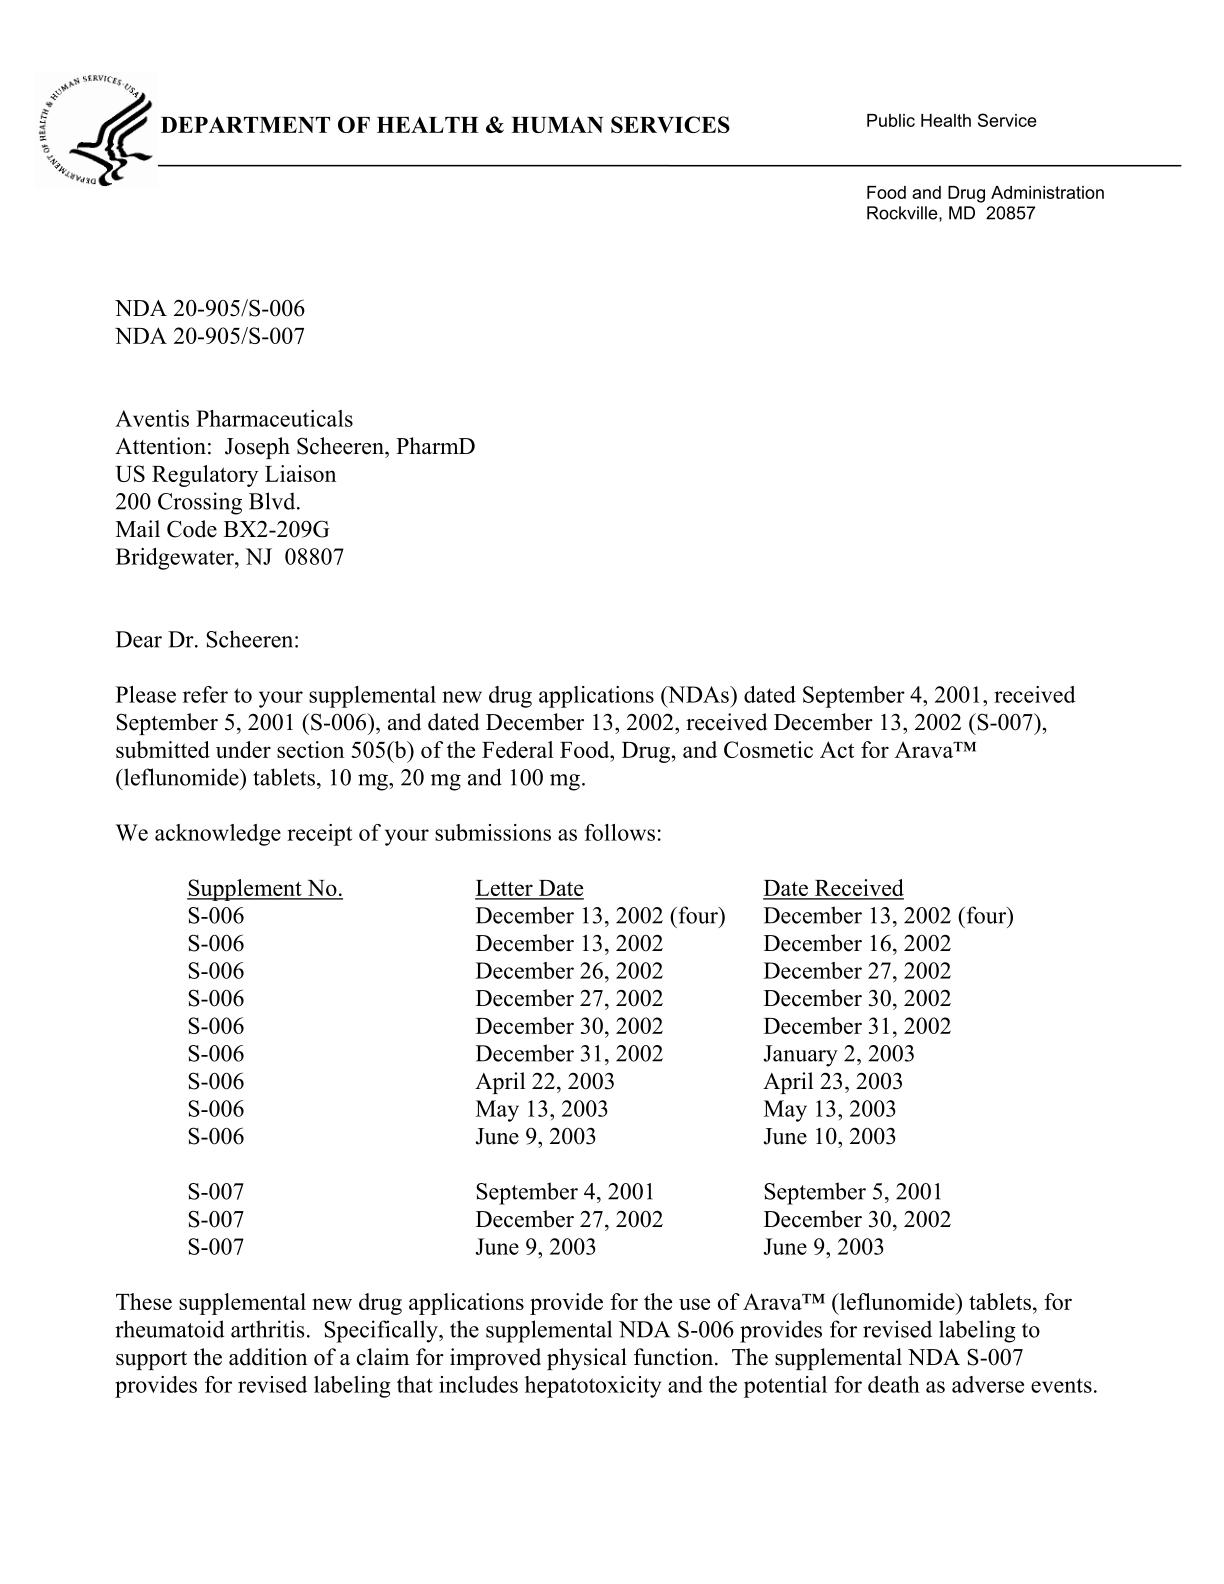nolines: (172, 870, 1023, 1261)
